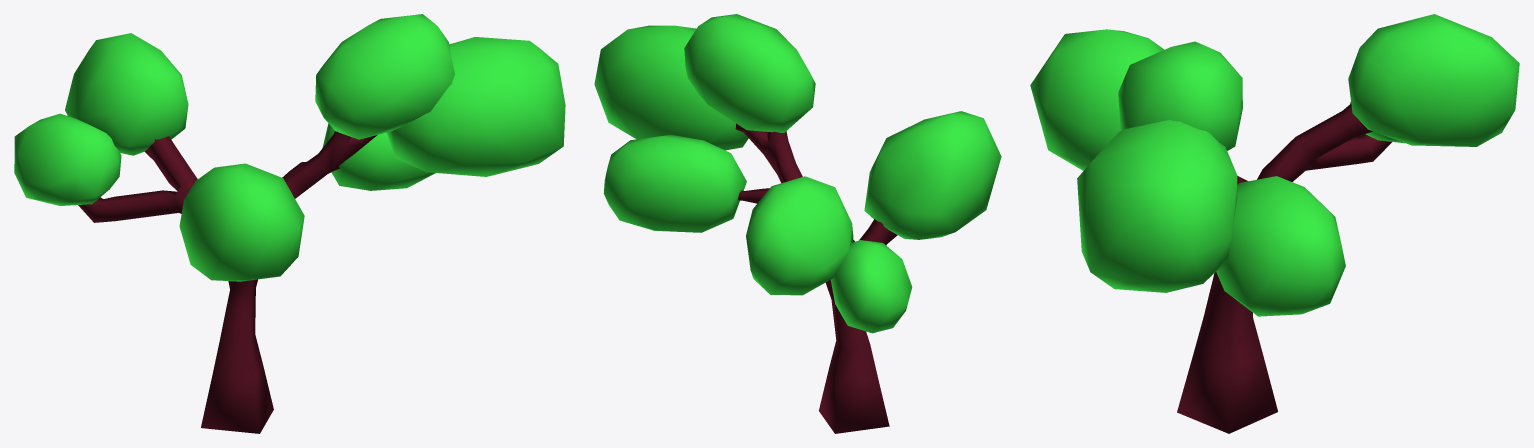
File: TreeModel.fbx
3 renders of one model, left to right at view 1: azimuth 30°, elevation 25°; view 2: azimuth 150°, elevation 25°; view 3: azimuth 270°, elevation 25°, orthographic. The views are drawn at different scales.
Parts seen in each view (by area): view 1: Tree; view 2: Tree; view 3: Tree.
Boxes of the visible parts, box(x1,y1,x2,y2) form: Tree: box(14, 14, 565, 433); Tree: box(594, 14, 1001, 433); Tree: box(1030, 14, 1519, 433).
Bounding box in the file's own units: 1324 × 1115 × 1111.
